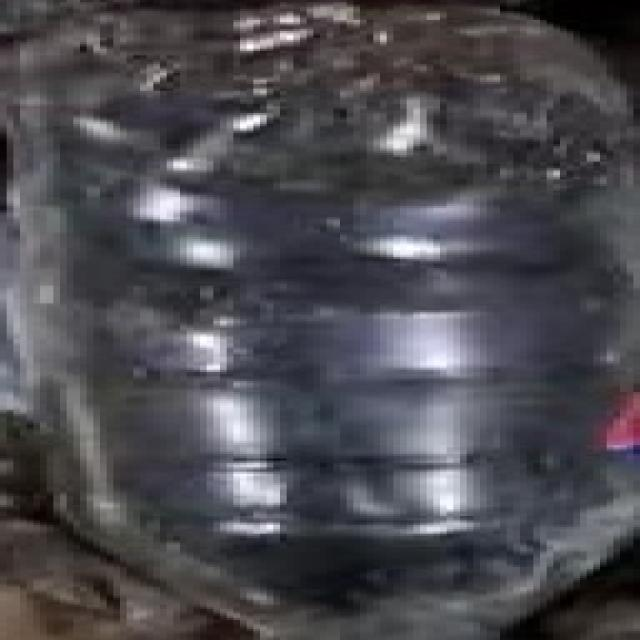litter: (10, 7, 640, 640)
